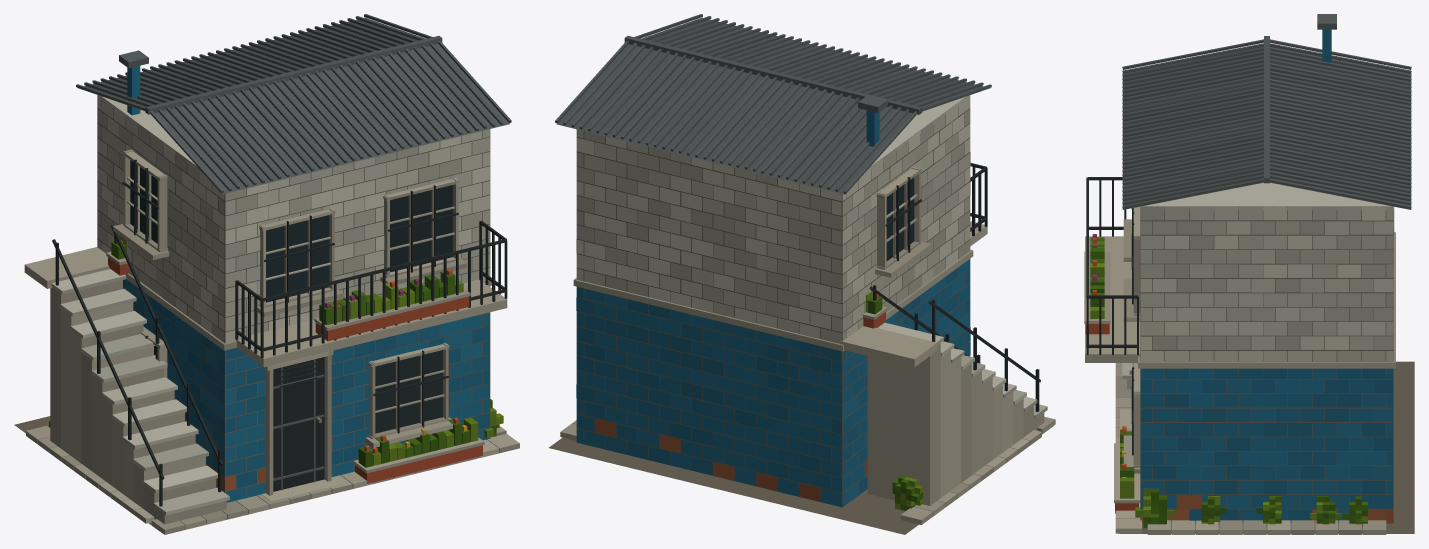
The model's file is SM_Mapa_064.fbx.
The picture shows the model from 3 angles, left to right: view 1: azimuth 30°, elevation 25°; view 2: azimuth 150°, elevation 25°; view 3: azimuth 270°, elevation 25°; orthographic projection.
Parts seen in each view (by area): view 1: SM_Mapa_064; view 2: SM_Mapa_064; view 3: SM_Mapa_064.
Boxes of the visible parts, x1,y1,x2,y2 form: SM_Mapa_064: (14,14,519,534); SM_Mapa_064: (549,14,1055,534); SM_Mapa_064: (1084,14,1414,534).
Size of the model in its own units: 8 by 6.39 by 8.11.
